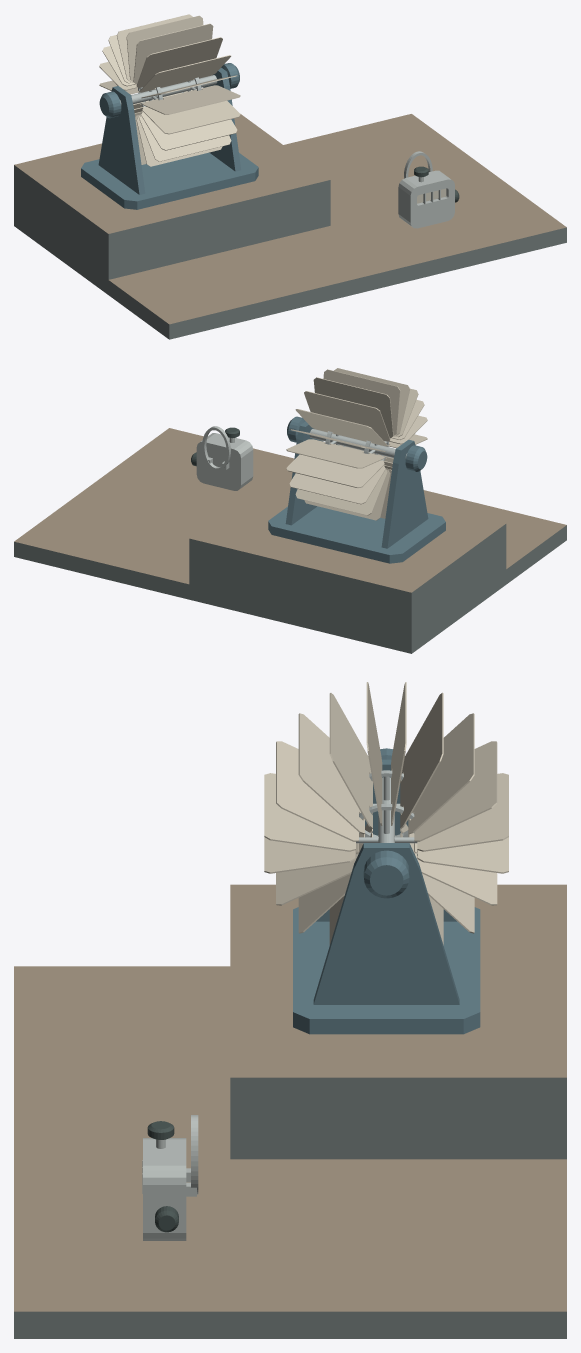
3 renders of one model, top to bottom at view 1: azimuth 30°, elevation 25°; view 2: azimuth 150°, elevation 25°; view 3: azimuth 270°, elevation 25°, orthographic. The views are drawn at different scales.
Visible parts, largest first — view 1: SCENE_ONLY__ContinuousSteppedDisplayPlinth, file__WholeRoundedLowDesktopBase, file__WholeFlaredBearingSupport_-1, tally__WholeRoundedHousingWithBlindReadoutWell, file__WholeTwinNotchBlankIndexCard_7, file__WholeTwinNotchBlankIndexCard_11, file__WholeTwinNotchBlankIndexCard_6, file__WholeTwinNotchBlankIndexCard_10, file__WholeTwinNotchBlankIndexCard_12, file__WholeTwinNotchBlankIndexCard_8, file__WholeTwinNotchBlankIndexCard_5, file__WholeTwinNotchBlankIndexCard_13 (+5 smaller); view 2: SCENE_ONLY__ContinuousSteppedDisplayPlinth, file__WholeRoundedLowDesktopBase, file__WholeFlaredBearingSupport_-1, tally__WholeRoundedHousingWithBlindReadoutWell, file__WholeTwinNotchBlankIndexCard_4, file__WholeTwinNotchBlankIndexCard_20, file__WholeTwinNotchBlankIndexCard_5, file__WholeTwinNotchBlankIndexCard_1, file__WholeTwinNotchBlankIndexCard_19, file__WholeTwinNotchBlankIndexCard_3, file__WholeTwinNotchBlankIndexCard_6, file__WholeTwinNotchBlankIndexCard_18 (+6 smaller); view 3: SCENE_ONLY__ContinuousSteppedDisplayPlinth, file__WholeFlaredBearingSupport_1, file__WholeRoundedLowDesktopBase, tally__WholeRoundedHousingWithBlindReadoutWell, file__WholeTwinNotchBlankIndexCard_8, file__WholeTwinNotchBlankIndexCard_3, file__WholeTwinNotchBlankIndexCard_2, file__WholeTwinNotchBlankIndexCard_9, file__WholeTwinNotchBlankIndexCard_7, file__WholeTwinNotchBlankIndexCard_4, file__WholeTwinNotchBlankIndexCard_10, file__WholeTwinNotchBlankIndexCard_1 (+9 smaller).
Part boxes in pixels (left/top/right/bottom): SCENE_ONLY__ContinuousSteppedDisplayPlinth: left=14, top=114, right=566, bottom=339; file__WholeRoundedLowDesktopBase: left=81, top=152, right=258, bottom=209; file__WholeFlaredBearingSupport_-1: left=98, top=86, right=145, bottom=194; tally__WholeRoundedHousingWithBlindReadoutWell: left=398, top=170, right=454, bottom=228; file__WholeTwinNotchBlankIndexCard_7: left=136, top=37, right=222, bottom=87; file__WholeTwinNotchBlankIndexCard_11: left=142, top=100, right=240, bottom=134; file__WholeTwinNotchBlankIndexCard_6: left=133, top=23, right=213, bottom=84; file__WholeTwinNotchBlankIndexCard_10: left=142, top=85, right=240, bottom=114; file__WholeTwinNotchBlankIndexCard_12: left=141, top=112, right=237, bottom=150; file__WholeTwinNotchBlankIndexCard_8: left=139, top=55, right=231, bottom=92; file__WholeTwinNotchBlankIndexCard_5: left=126, top=15, right=203, bottom=81; file__WholeTwinNotchBlankIndexCard_13: left=139, top=115, right=231, bottom=161; SCENE_ONLY__ContinuousSteppedDisplayPlinth: left=14, top=428, right=566, bottom=653; file__WholeRoundedLowDesktopBase: left=268, top=506, right=445, bottom=563; file__WholeFlaredBearingSupport_-1: left=381, top=439, right=428, bottom=548; tally__WholeRoundedHousingWithBlindReadoutWell: left=196, top=433, right=253, bottom=490; file__WholeTwinNotchBlankIndexCard_4: left=304, top=391, right=390, bottom=441; file__WholeTwinNotchBlankIndexCard_20: left=286, top=454, right=384, bottom=487; file__WholeTwinNotchBlankIndexCard_5: left=313, top=377, right=393, bottom=438; file__WholeTwinNotchBlankIndexCard_1: left=286, top=439, right=384, bottom=468; file__WholeTwinNotchBlankIndexCard_19: left=289, top=465, right=385, bottom=504; file__WholeTwinNotchBlankIndexCard_3: left=295, top=409, right=387, bottom=446; file__WholeTwinNotchBlankIndexCard_6: left=323, top=369, right=400, bottom=435; file__WholeTwinNotchBlankIndexCard_18: left=295, top=469, right=387, bottom=515; SCENE_ONLY__ContinuousSteppedDisplayPlinth: left=14, top=884, right=566, bottom=1338; file__WholeFlaredBearingSupport_1: left=313, top=843, right=459, bottom=1004; file__WholeRoundedLowDesktopBase: left=293, top=907, right=480, bottom=1034; tally__WholeRoundedHousingWithBlindReadoutWell: left=143, top=1138, right=186, bottom=1240; file__WholeTwinNotchBlankIndexCard_8: left=298, top=713, right=364, bottom=834; file__WholeTwinNotchBlankIndexCard_3: left=408, top=713, right=474, bottom=834; file__WholeTwinNotchBlankIndexCard_2: left=414, top=741, right=497, bottom=841; file__WholeTwinNotchBlankIndexCard_9: left=276, top=741, right=358, bottom=841; file__WholeTwinNotchBlankIndexCard_7: left=329, top=693, right=372, bottom=828; file__WholeTwinNotchBlankIndexCard_4: left=400, top=692, right=443, bottom=828; file__WholeTwinNotchBlankIndexCard_10: left=264, top=773, right=355, bottom=851; file__WholeTwinNotchBlankIndexCard_1: left=417, top=773, right=508, bottom=851.
Bounding box in the file's own units: 0.68 × 0.3418 × 0.46.
